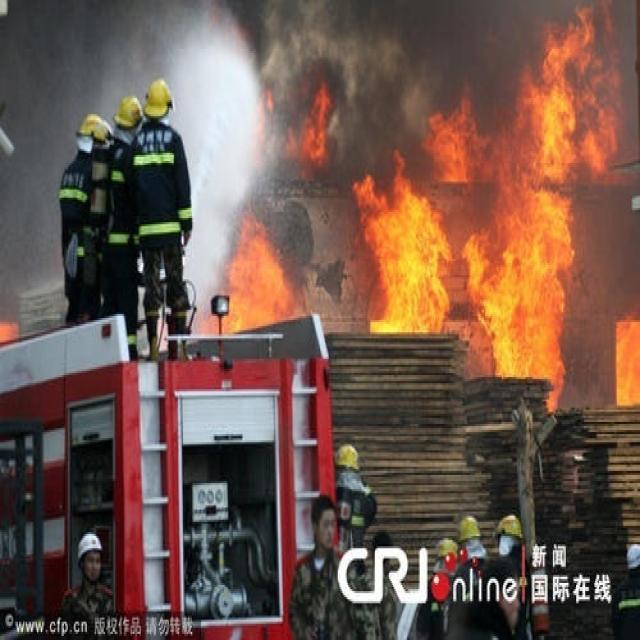Fire: (352, 2, 640, 414), (202, 220, 305, 338), (296, 77, 332, 159)
Smoke: (219, 2, 640, 402)
